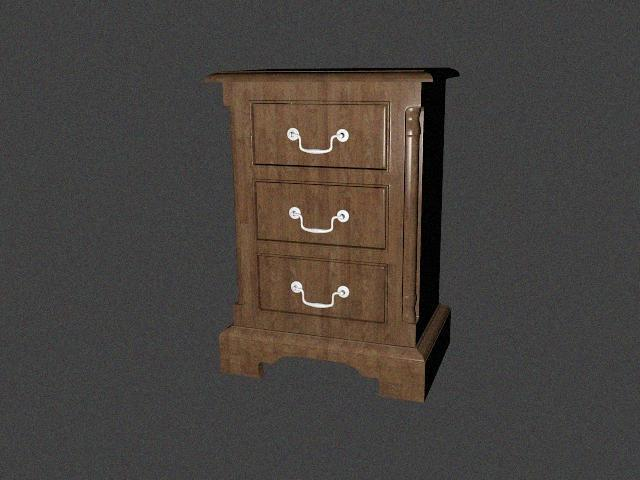cabinet_door: (253, 104, 387, 166), (256, 184, 386, 244), (258, 262, 384, 316)
handle: (280, 122, 356, 159), (282, 201, 354, 238), (286, 276, 356, 312)
